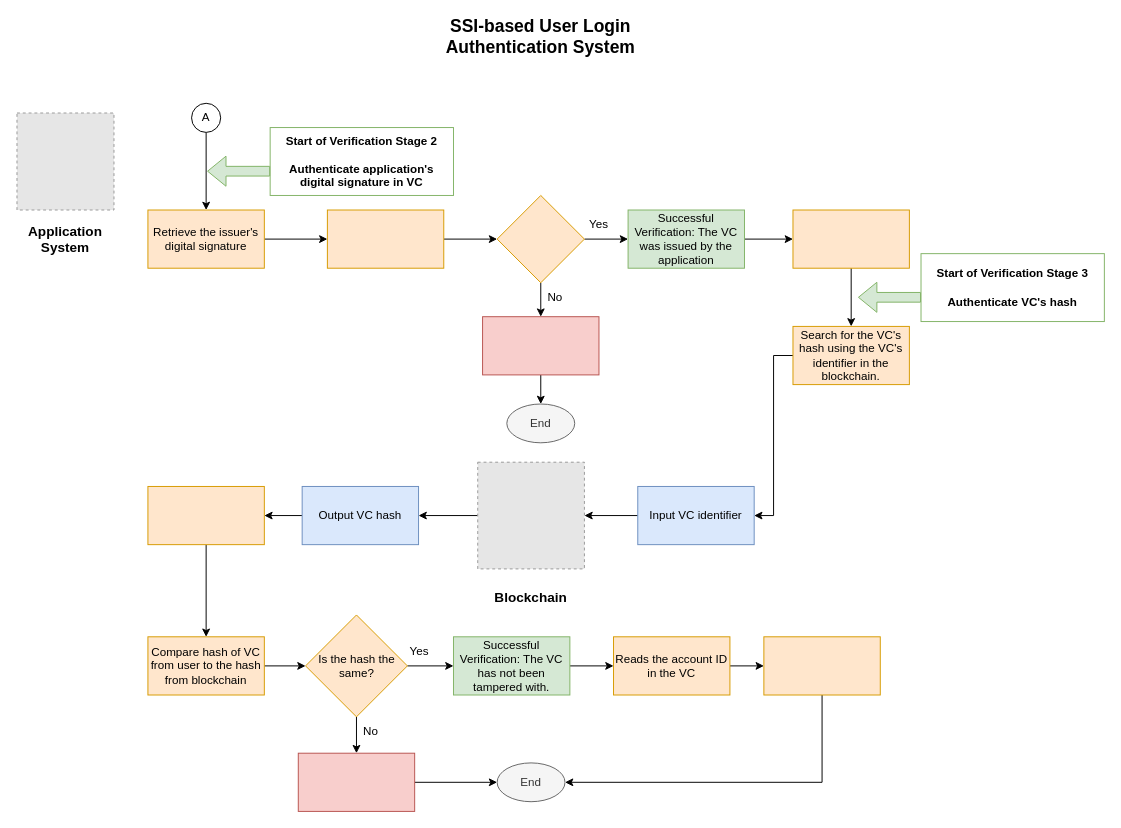
Image size: 1121x828. Some labels were removed from this diagram. Grey dashed boxes stand in for pictures. The shapes that lost their labels are listed below. From the top down, each one's box as (x1, y1, x2, y2) in pixels, then its label:
(326, 209, 444, 268): Validate if the digital signature belongs to the application
(496, 194, 584, 283): Is signature valid?
(792, 209, 909, 268): Hash the VC
(482, 316, 599, 375): Failed Verification: The VC was not issued by the application
(147, 485, 264, 545): Receive VC hash
(763, 636, 880, 695): Redirects user to the correct account page
(297, 752, 415, 811): Failed Verification: The VC has been tampered and is not original
